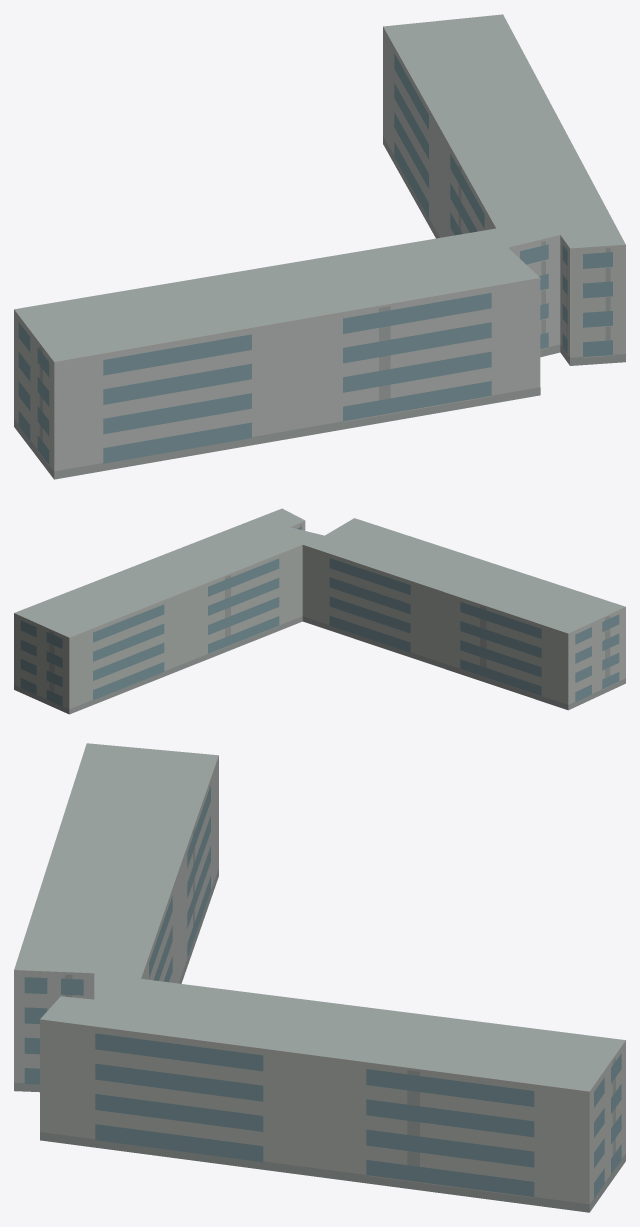
Rendered from residential-a81e6c4b-2d86-4689-b9e1-80b0c9c941a5.glb.
The picture shows the model from 3 angles, top to bottom: view 1: azimuth 30°, elevation 25°; view 2: azimuth 150°, elevation 25°; view 3: azimuth 270°, elevation 25°; orthographic projection. The views are drawn at different scales.
Visible parts, largest first — view 1: residential-a81e6c4b-2d86-4689-b9e1-80b0c9c941a5.tmp; view 2: residential-a81e6c4b-2d86-4689-b9e1-80b0c9c941a5.tmp; view 3: residential-a81e6c4b-2d86-4689-b9e1-80b0c9c941a5.tmp.
Boxes of the visible parts, <box> form: residential-a81e6c4b-2d86-4689-b9e1-80b0c9c941a5.tmp: <box>14,14,625,479</box>; residential-a81e6c4b-2d86-4689-b9e1-80b0c9c941a5.tmp: <box>14,508,625,714</box>; residential-a81e6c4b-2d86-4689-b9e1-80b0c9c941a5.tmp: <box>14,743,625,1212</box>.
Bounding box in the file's own units: 75.29 × 12.2 × 55.88.
